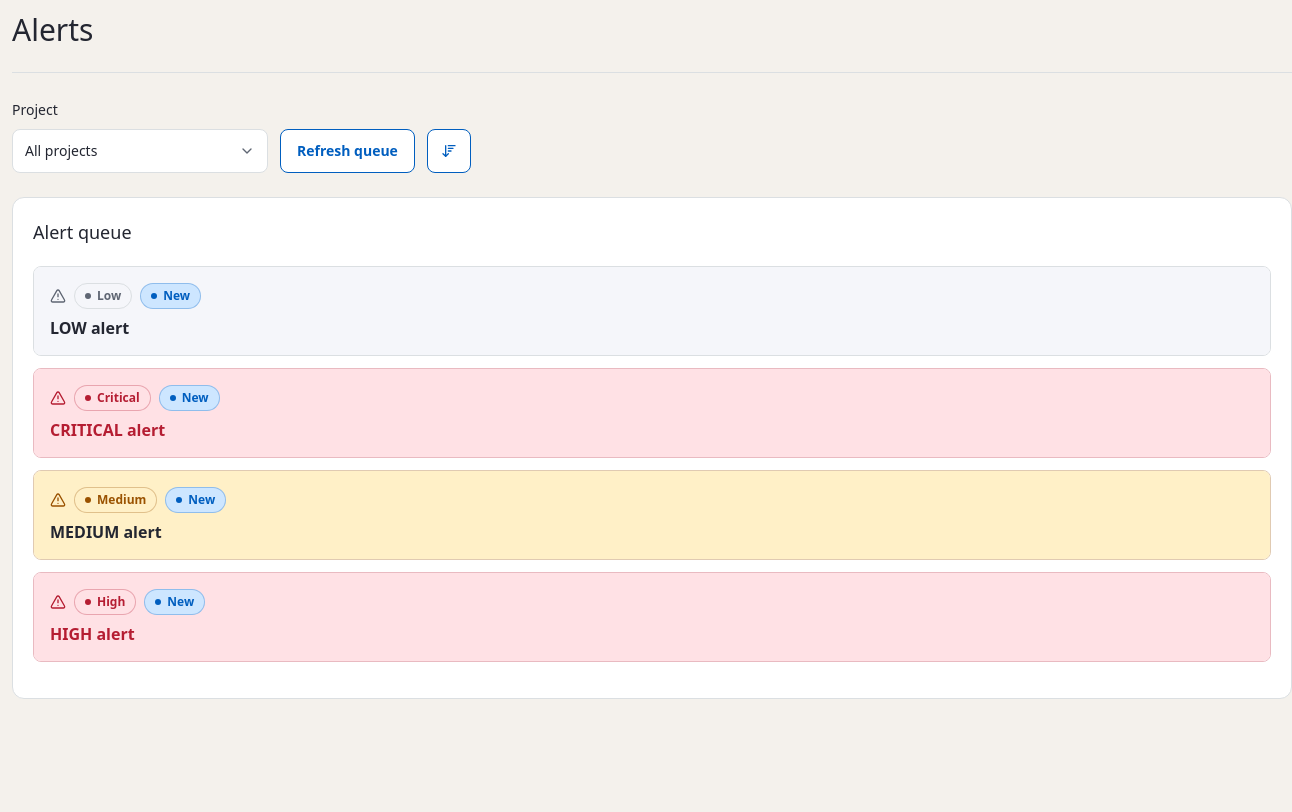
alert outcome controls › sorts the loaded queue most severe first on request
Expected: the text "LOW alert" is shown, [50,317,129,339]
Click the button named "Sort by severity": click(449, 151) [427,129,471,173]
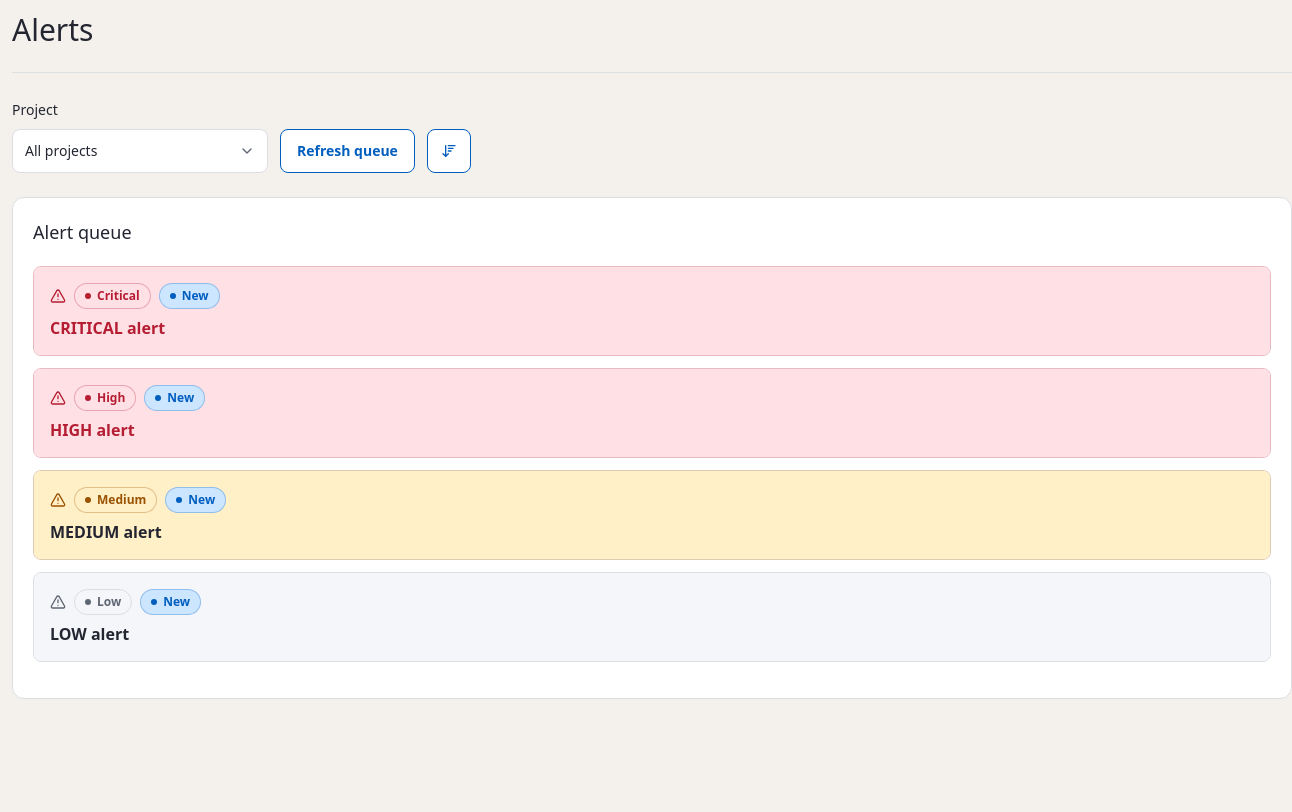
Expected: the elements " alert" read "CRITICAL alert", "HIGH alert", "MEDIUM alert", "LOW alert", in this order, [50,317,165,339]; [50,419,135,441]; [50,521,162,543]; [50,623,129,645]
